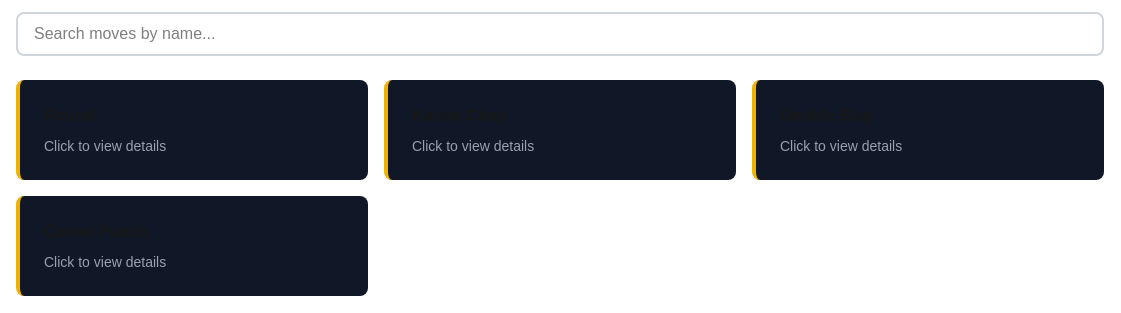
Test: MovesSearchClient Component › should filter moves when searching
Type "karate" into the field with placeholder "Search moves by name...". click: (560, 34)
box: [16, 12, 1104, 56]
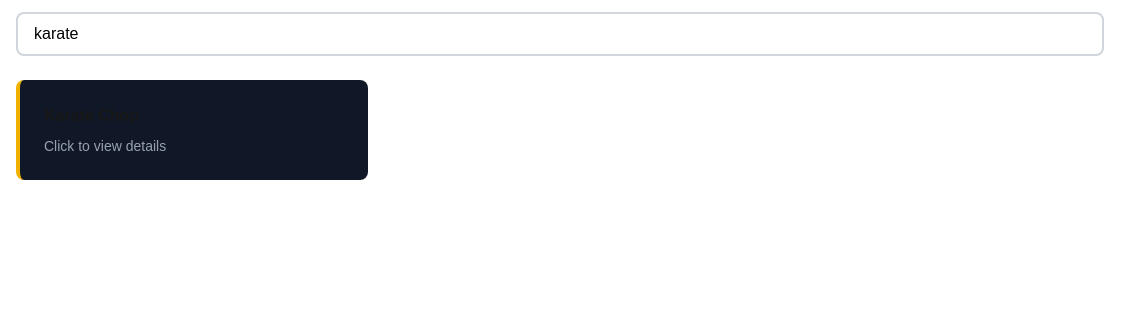
Now the link "comet punch" is gone
